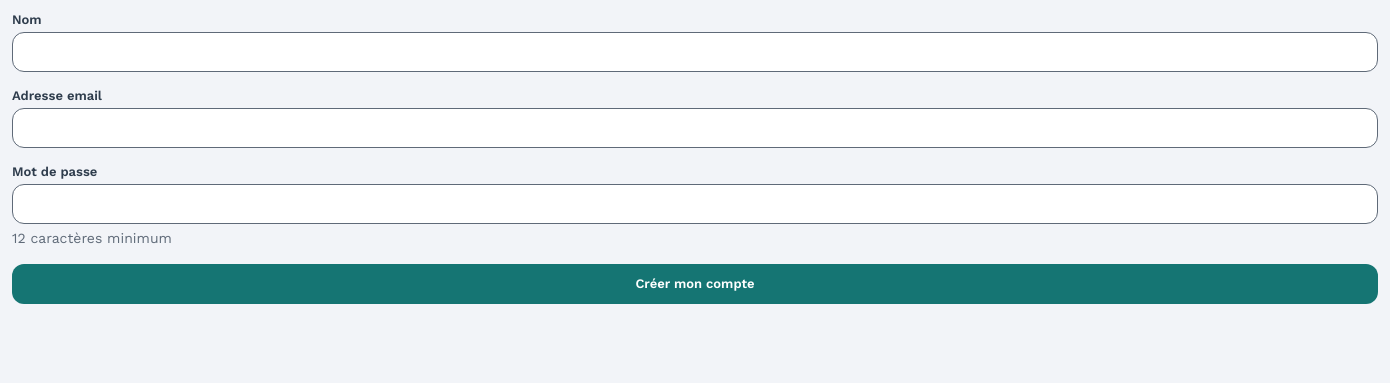
SignUpForm (inscription) › affiche le message de limitation sur une réponse 429
Type "Ada" into the field labelled "Nom" at x=695, y=52, box [12,32,1378,72]
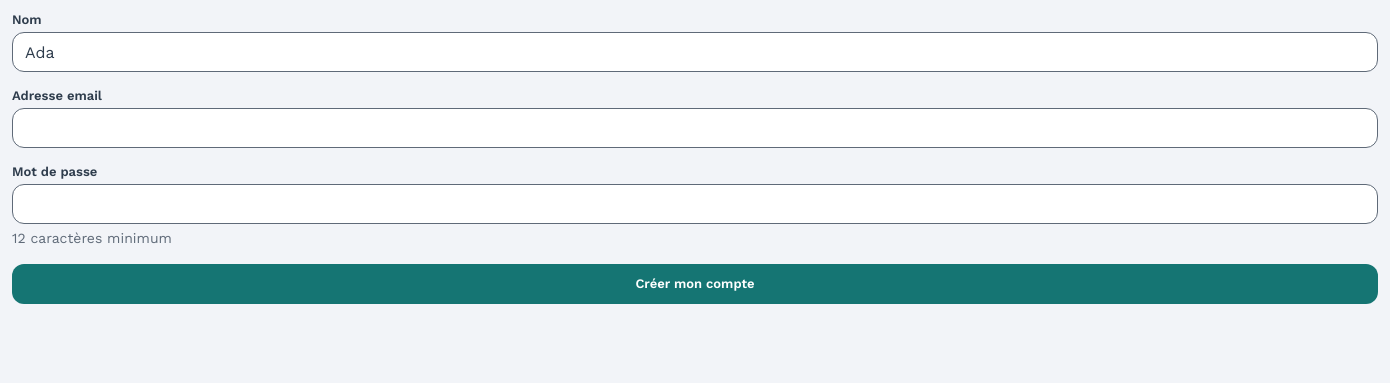
Type "ada@example.com" into the field labelled "Adresse email" at x=695, y=128, box [12,108,1378,148]
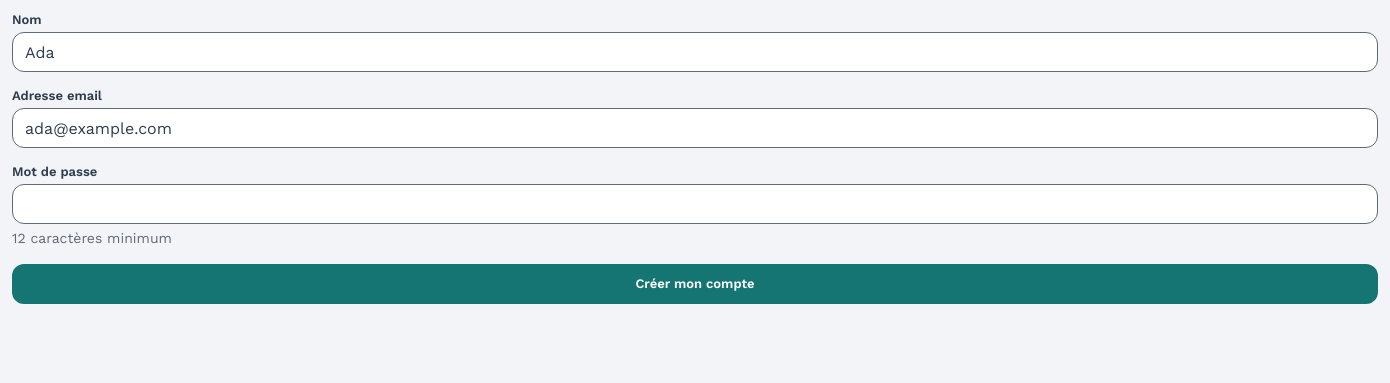
Type "un-mot-de-passe-long" into the password field labelled "Mot de passe" at x=695, y=204, box [12,184,1378,224]
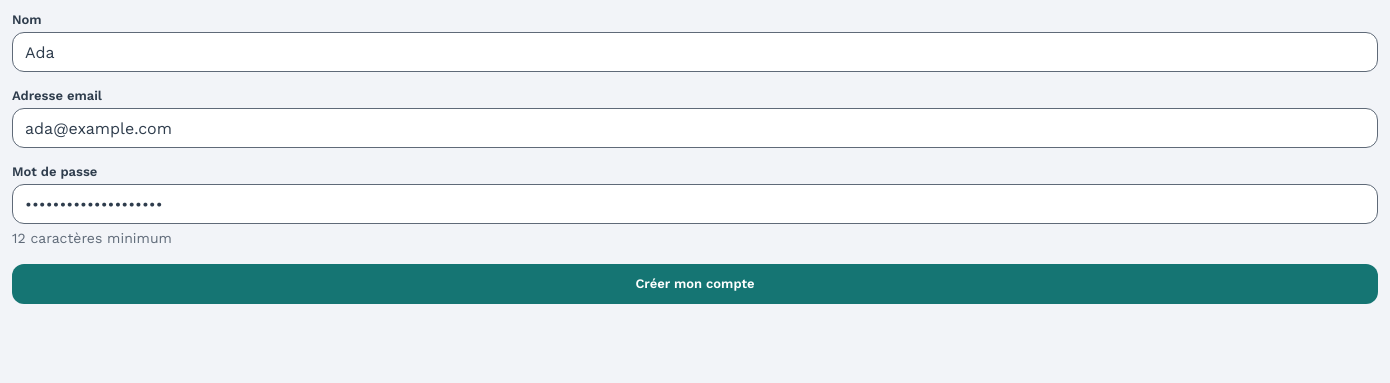
Click the button "Créer mon compte" at x=695, y=284, box [12,264,1378,304]
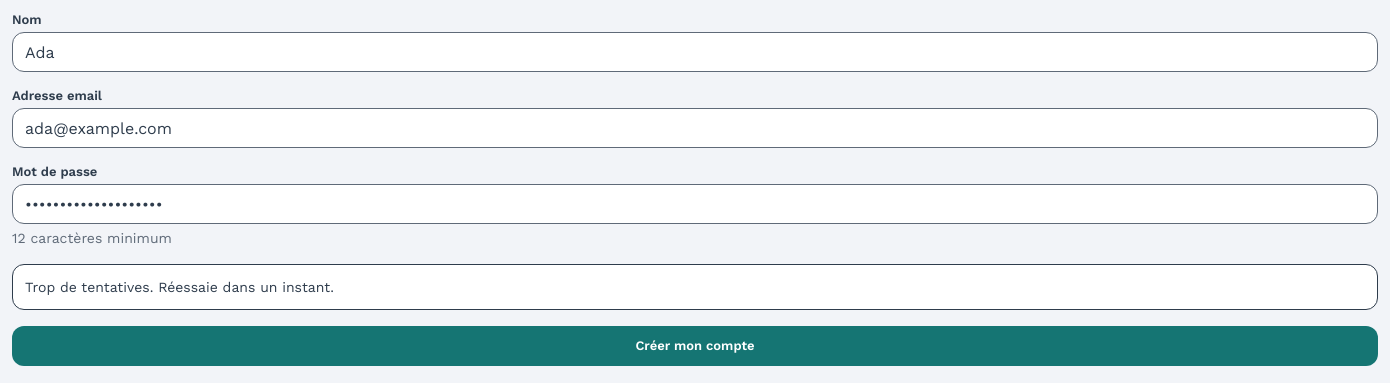
Expected: the message shows "Trop de tentatives.", [25,279,334,295]
